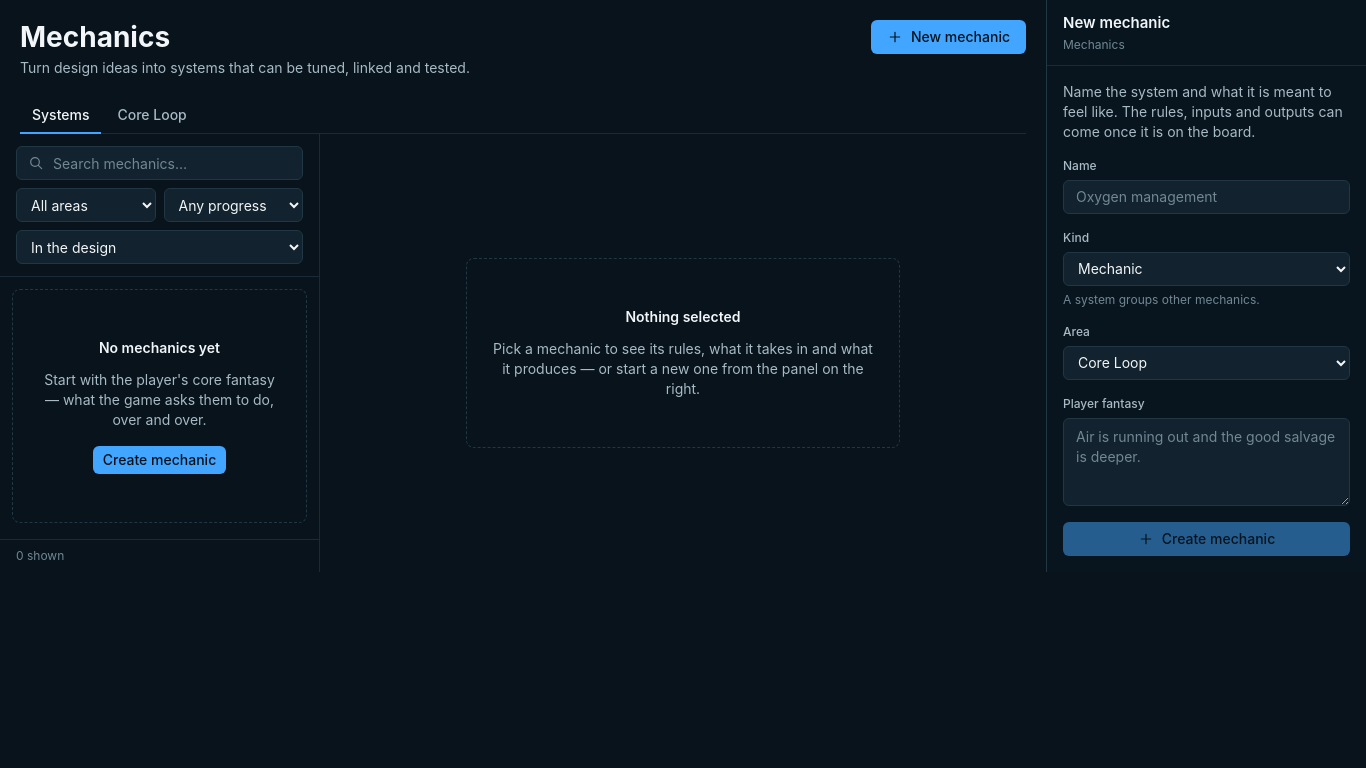
Mechanics workspace › has its own empty state for the archived shelf
This screenshot has width=1366, height=768.
Expected: the text "No mechanics yet" is shown, x1=99 y1=338 x2=220 y2=358
Select "Archived" in the dropdown named "Filter by lifecycle" at (160,247), box x1=16 y1=230 x2=303 y2=264
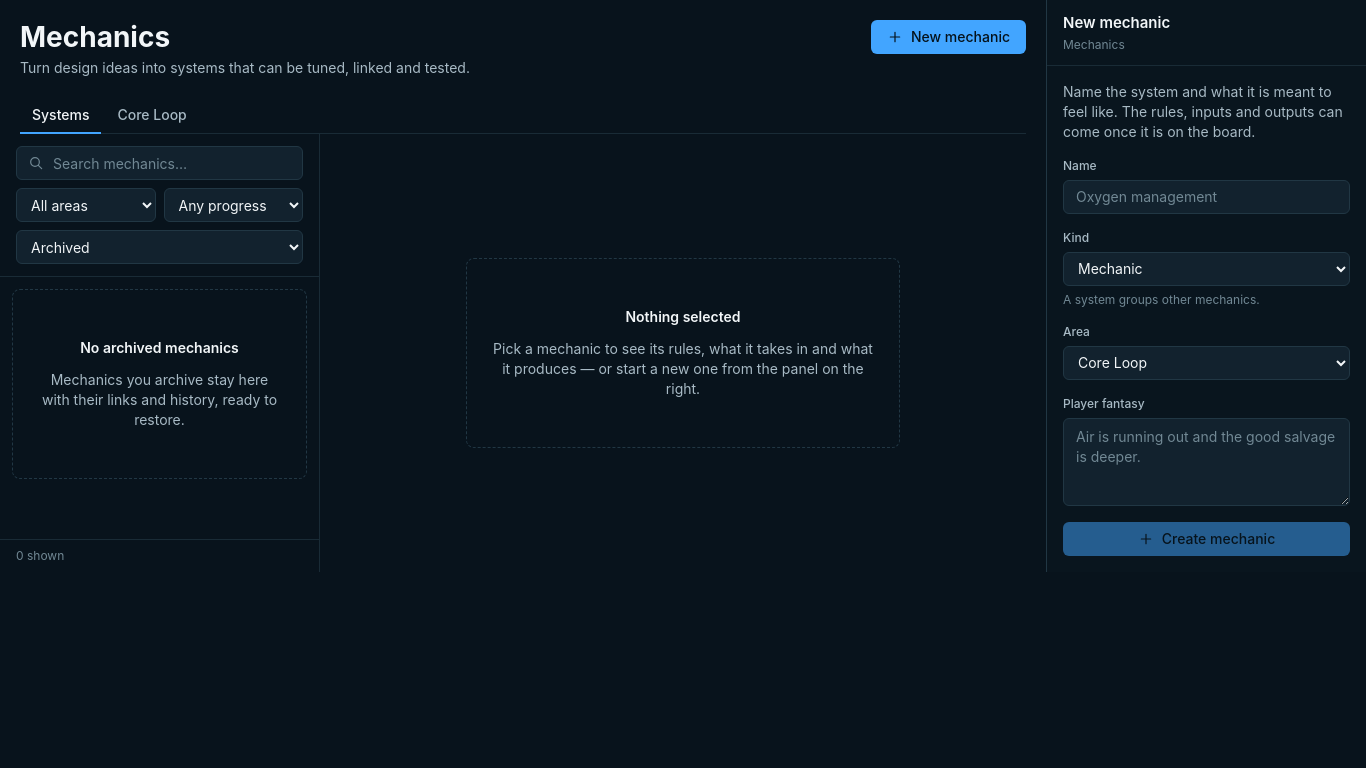
Now the text "No archived mechanics" is shown, box x1=80 y1=338 x2=239 y2=358
